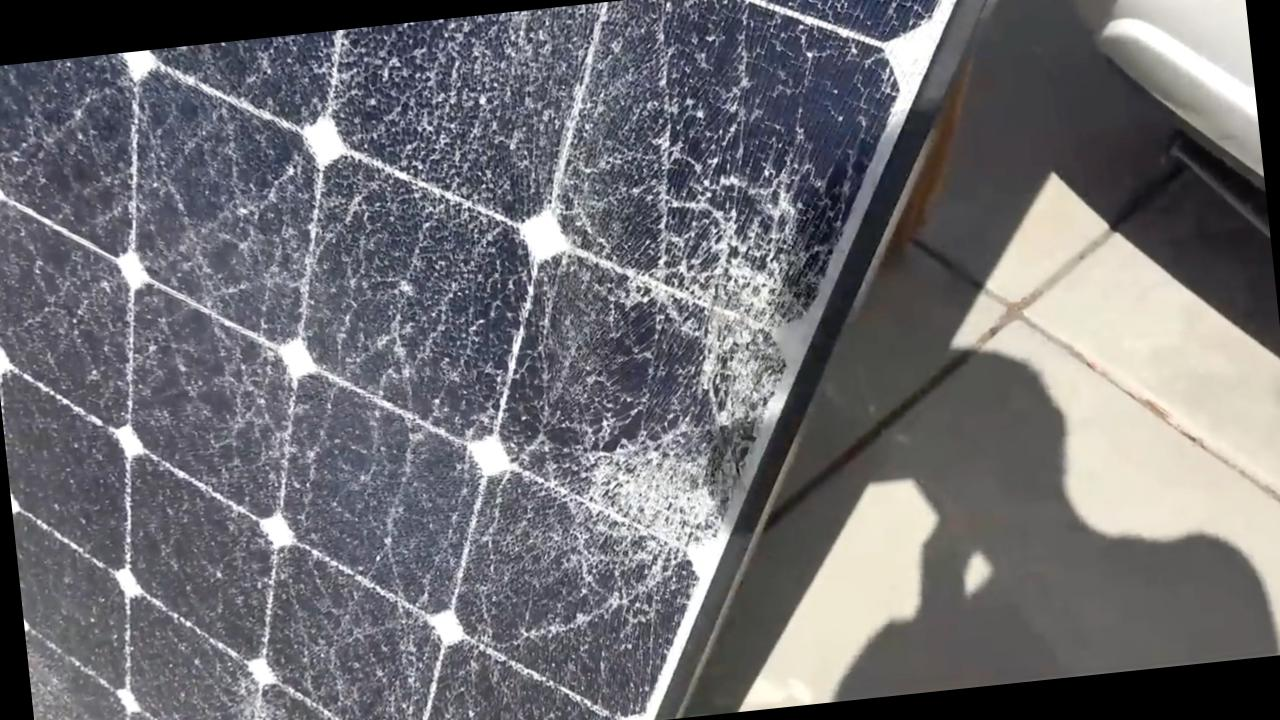Crack: (0, 3, 664, 719), (116, 33, 387, 350), (366, 10, 612, 203), (406, 218, 619, 418), (610, 114, 813, 319), (169, 352, 373, 538), (600, 0, 896, 125), (277, 576, 473, 719), (556, 420, 719, 572), (0, 68, 115, 238), (627, 308, 769, 426)
